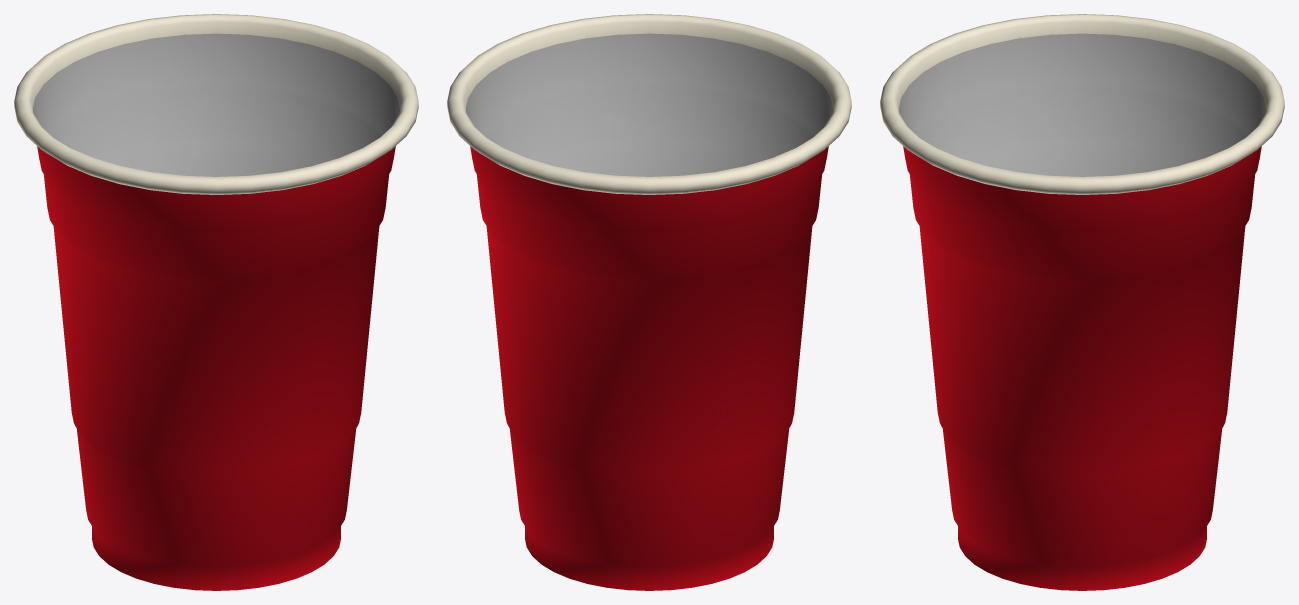
The model's file is Token Cup.FBX.
3 renders of one model, left to right at view 1: azimuth 30°, elevation 25°; view 2: azimuth 150°, elevation 25°; view 3: azimuth 270°, elevation 25°, orthographic.
Visible parts, largest first — view 1: Token Cup; view 2: Token Cup; view 3: Token Cup.
Boxes of the visible parts, bbox=[...] form: Token Cup: bbox=[14, 14, 418, 590]; Token Cup: bbox=[447, 14, 851, 590]; Token Cup: bbox=[880, 14, 1284, 590].
Bounding box in the file's own units: 0.1485 × 0.1791 × 0.1485.
